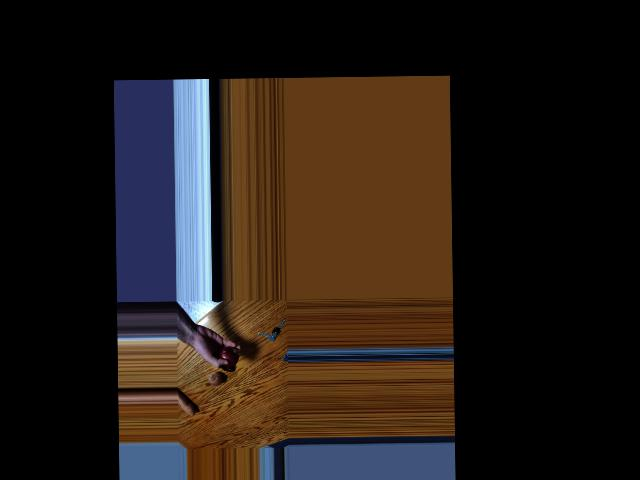onion: (219, 345, 238, 367)
